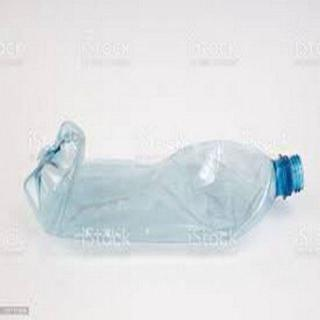Plastic-bottle: (24, 120, 306, 255)
